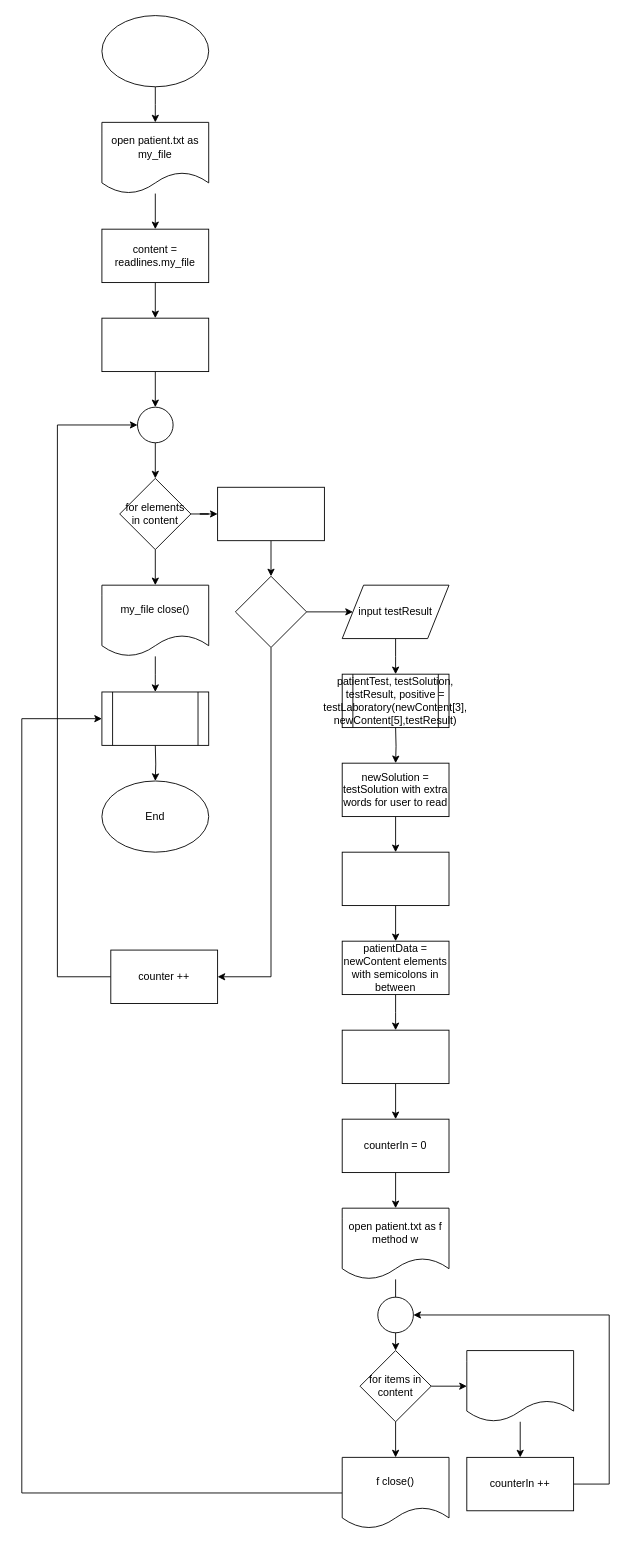
The diagram is 632 pixels wide and 1544 high, and some of its shapes have lost their labels. The box of each missing label's shape, as (x1, y1, x2, y2) in pixels:
counter = 0: (101, 317, 209, 372)
exitMenu(): (101, 691, 209, 745)
if patientID == newContent[1]: (235, 575, 307, 647)
newContent = content[counter].split(";"): (217, 486, 324, 541)
newIndex = newContent[1] - 1: (341, 1029, 449, 1084)
set newContent elements based on testLaboratory returns: (341, 851, 449, 906)
Start: (101, 15, 209, 87)
writelines f (content[counterIn]): (466, 1350, 574, 1422)
